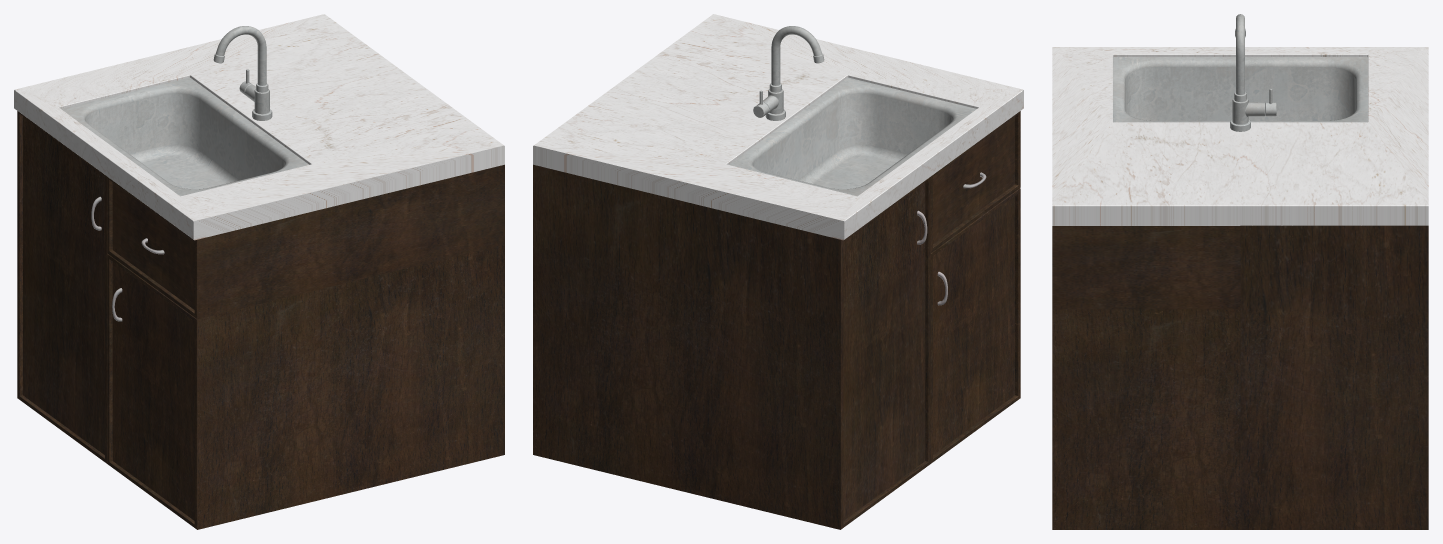
File: SM_KitchenCounter_LowerSink_01a.fbx
The picture shows the model from 3 angles, left to right: view 1: azimuth 30°, elevation 25°; view 2: azimuth 150°, elevation 25°; view 3: azimuth 270°, elevation 25°; orthographic projection. The views are drawn at different scales.
Visible parts, largest first — view 1: SM_KitchenCounter_LowerSink_01a_LOD0; view 2: SM_KitchenCounter_LowerSink_01a_LOD0; view 3: SM_KitchenCounter_LowerSink_01a_LOD0.
Part boxes in pixels (bbox=[...]): SM_KitchenCounter_LowerSink_01a_LOD0: bbox=[14, 14, 504, 529]; SM_KitchenCounter_LowerSink_01a_LOD0: bbox=[533, 14, 1023, 529]; SM_KitchenCounter_LowerSink_01a_LOD0: bbox=[1052, 14, 1428, 529].
Bounding box in the file's own units: 101 × 100 × 124.
